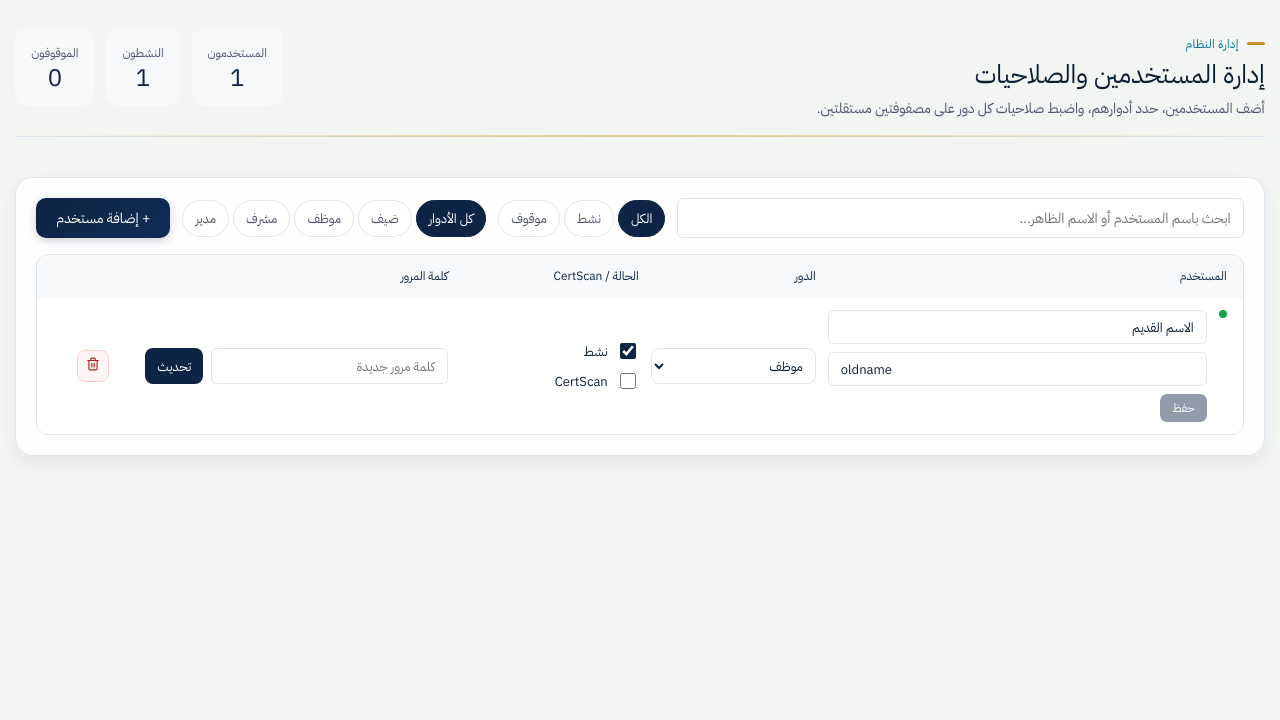
Scenario: UserManagementTab — username rename guard › blocks the rename when the user has work on disk, but still saves the display-name edit submitted with it
Expected: the element showing "الاسم القديم" is shown, 37,297 -> 1243,434
Replace the text in the field named "اسم المستخدم" with "newname" at (1017, 369), box 828,352 -> 1207,386
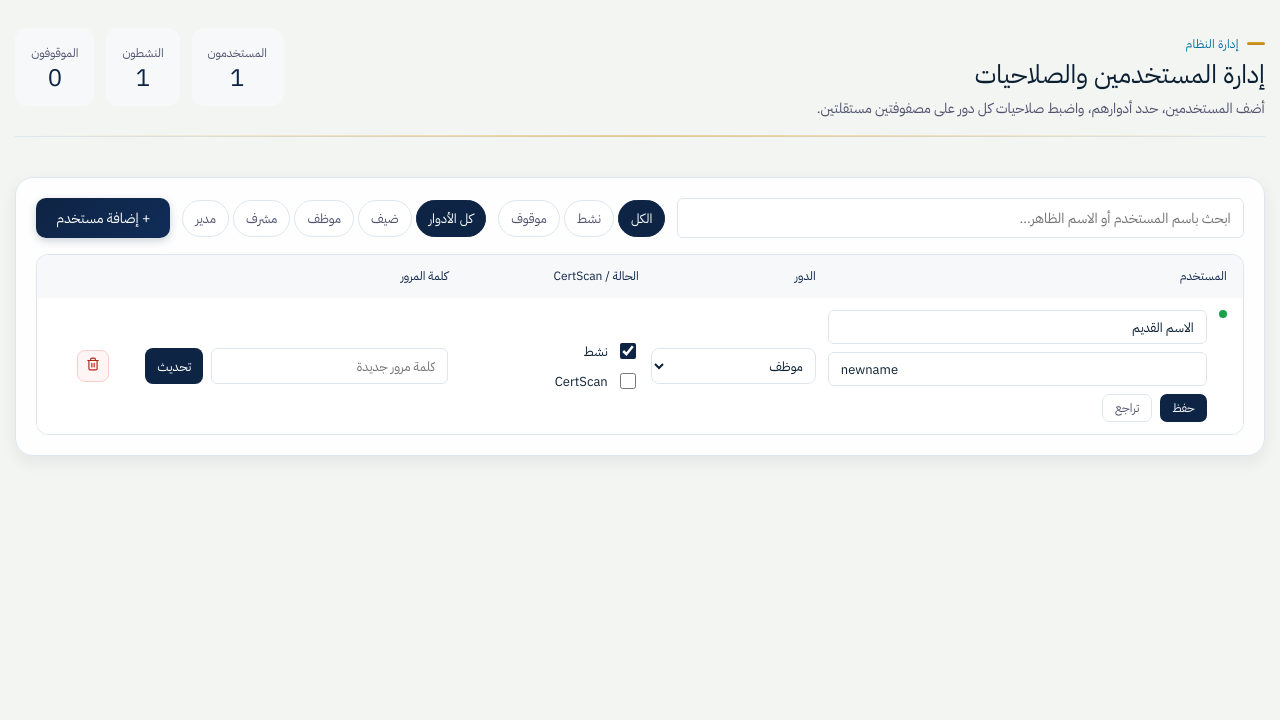
Replace the text in the field named "الاسم الظاهر" with "الاسم الجديد" at (1017, 327), box 828,310 -> 1207,344
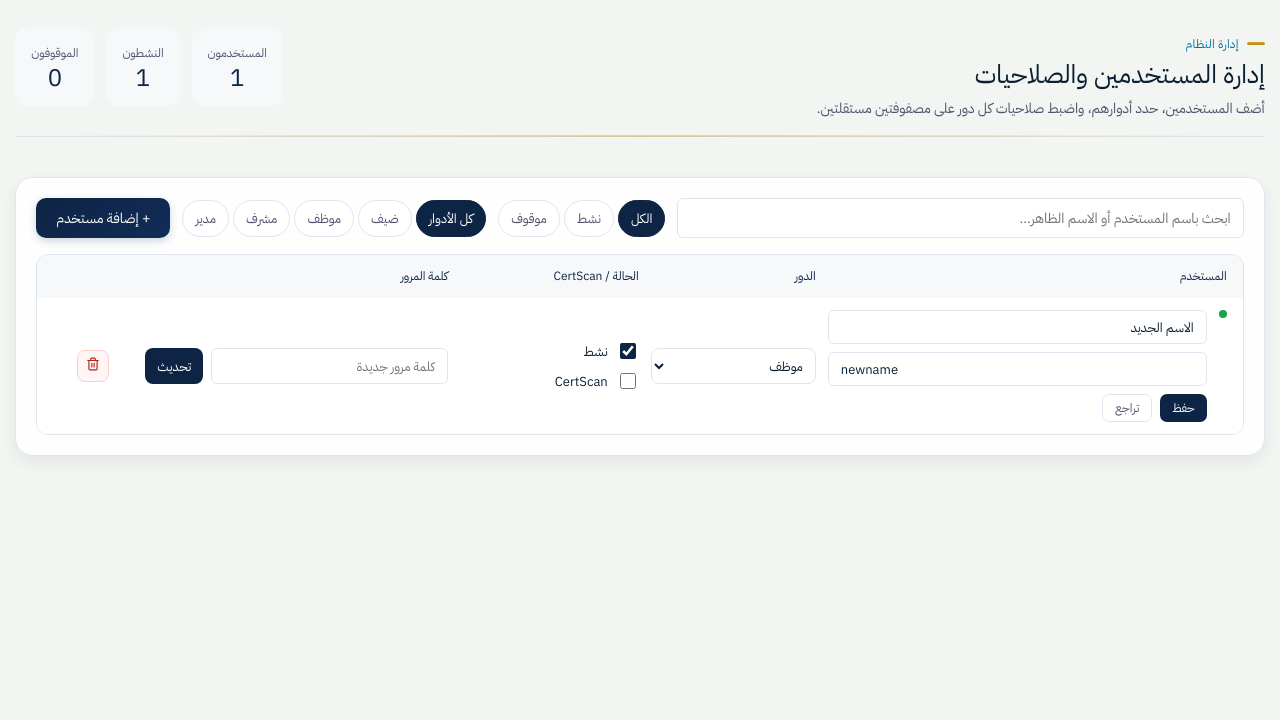
Click the button "حفظ".
click(1184, 408)  # box 1160,394 -> 1207,422
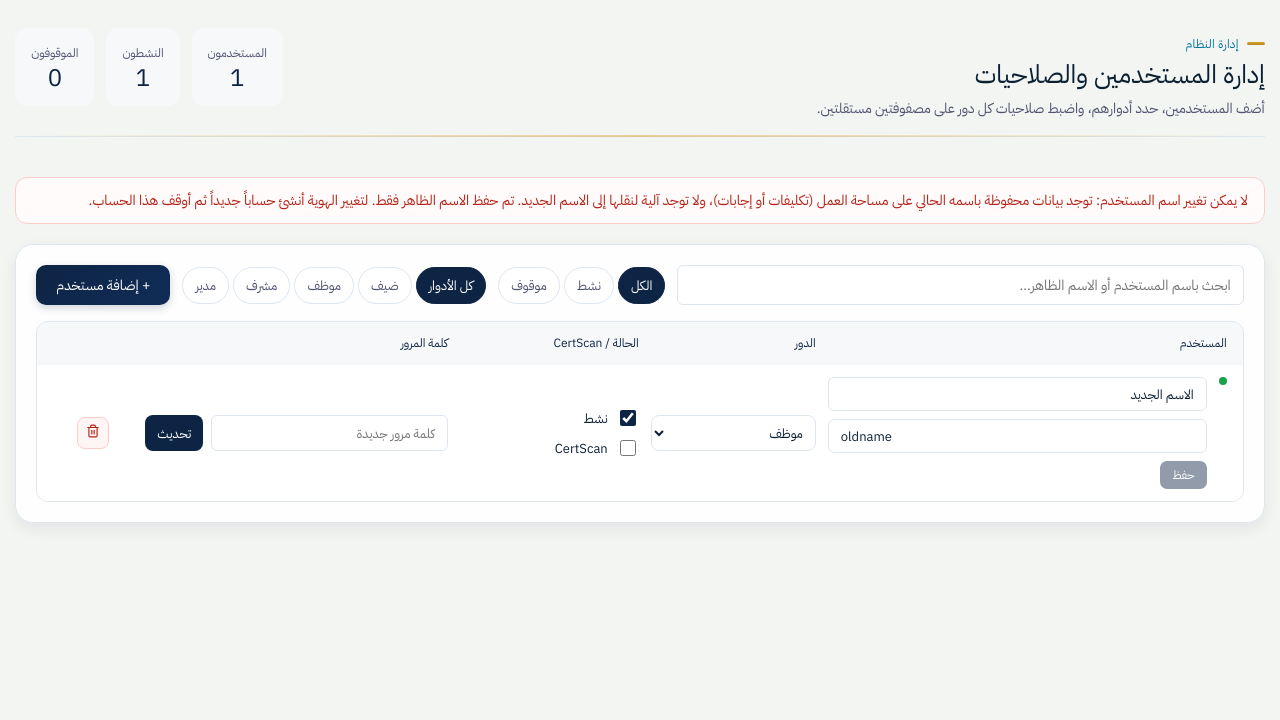
Expected: the text "لا يمكن تغيير اسم المستخدم: توجد بيانات محفوظة باسمه الحالي على مساحة العمل (تكليفات أو إجابات)، ولا توجد آلية لنقلها إل" is shown, 89,190 -> 1248,211
